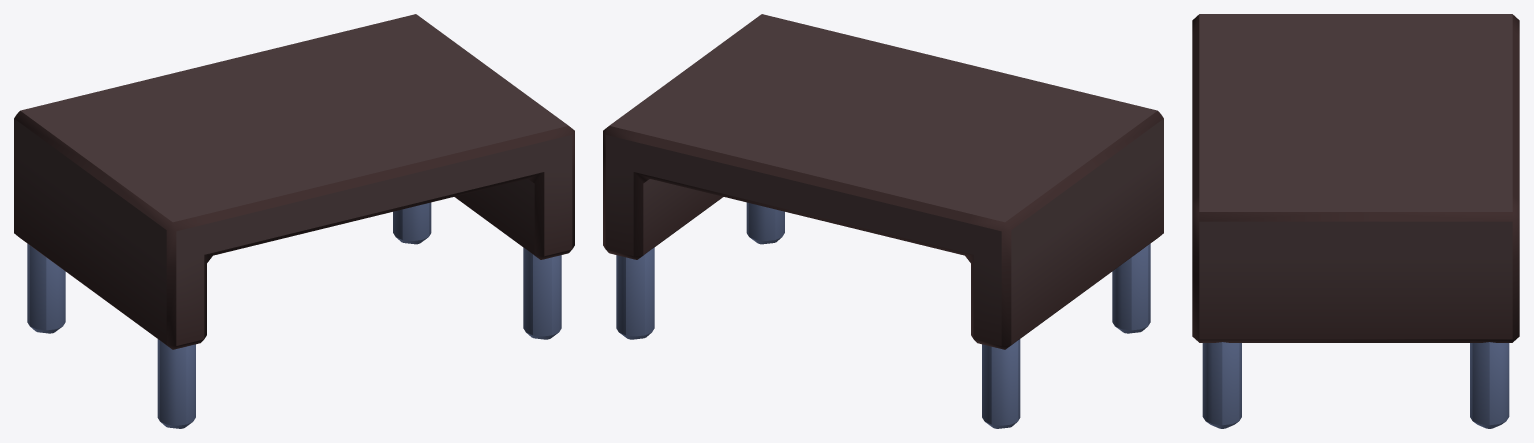
The model's file is Table.fbx.
3 views of the same model, side by side, from view 1: azimuth 30°, elevation 25°; view 2: azimuth 150°, elevation 25°; view 3: azimuth 270°, elevation 25° (orthographic). The views are drawn at different scales.
Parts seen in each view (by area): view 1: Table; view 2: Table; view 3: Table.
Part boxes in pixels (x1,y1,x2,y2): Table: [14, 14, 574, 428]; Table: [603, 14, 1163, 428]; Table: [1192, 14, 1519, 428].
Bounding box in the file's own units: 200 × 100 × 136.
